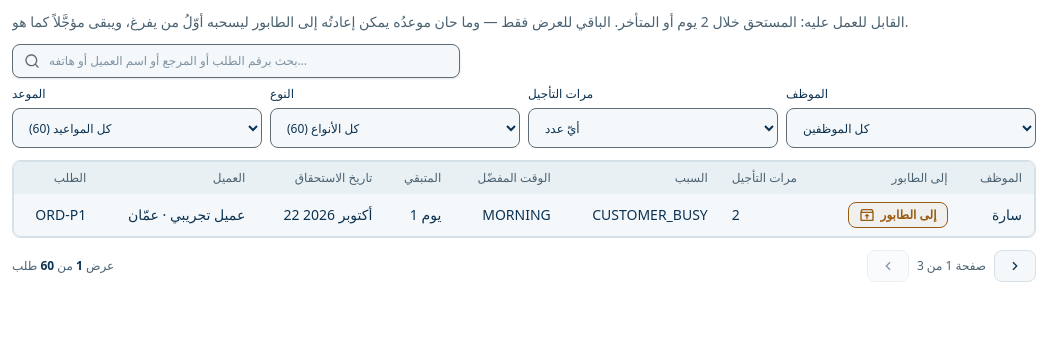
Test case: the pages › — «التالي» asks for the next page of the SAME list
Select "بعدها حتى 7 أيام (20)" in the dropdown labelled "الموعد": (137, 128) 12,108 -> 262,148
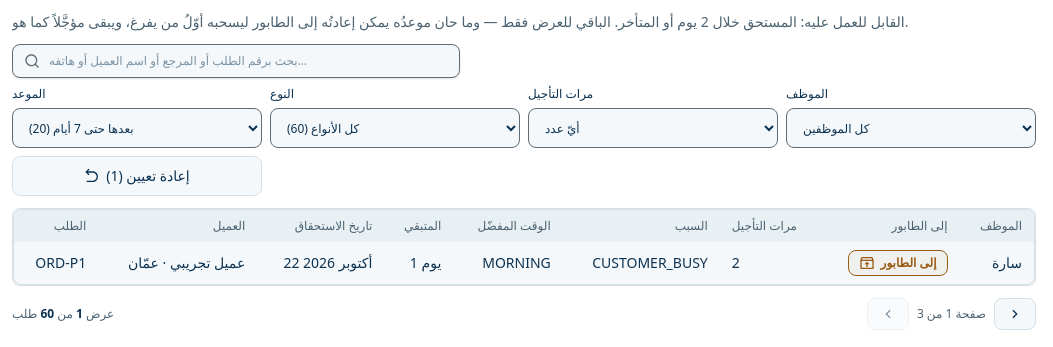
Click the button named "الصفحة التالية": (1015, 314) 994,298 -> 1036,330
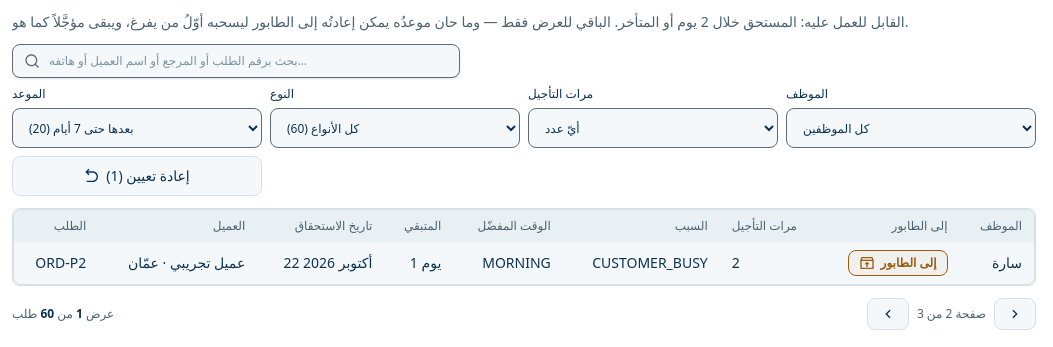
Check: the link "ORD-P2" is shown, box 35,253 -> 86,272
Check: the text "صفحة 2 من 3" is shown, box 917,306 -> 986,322
